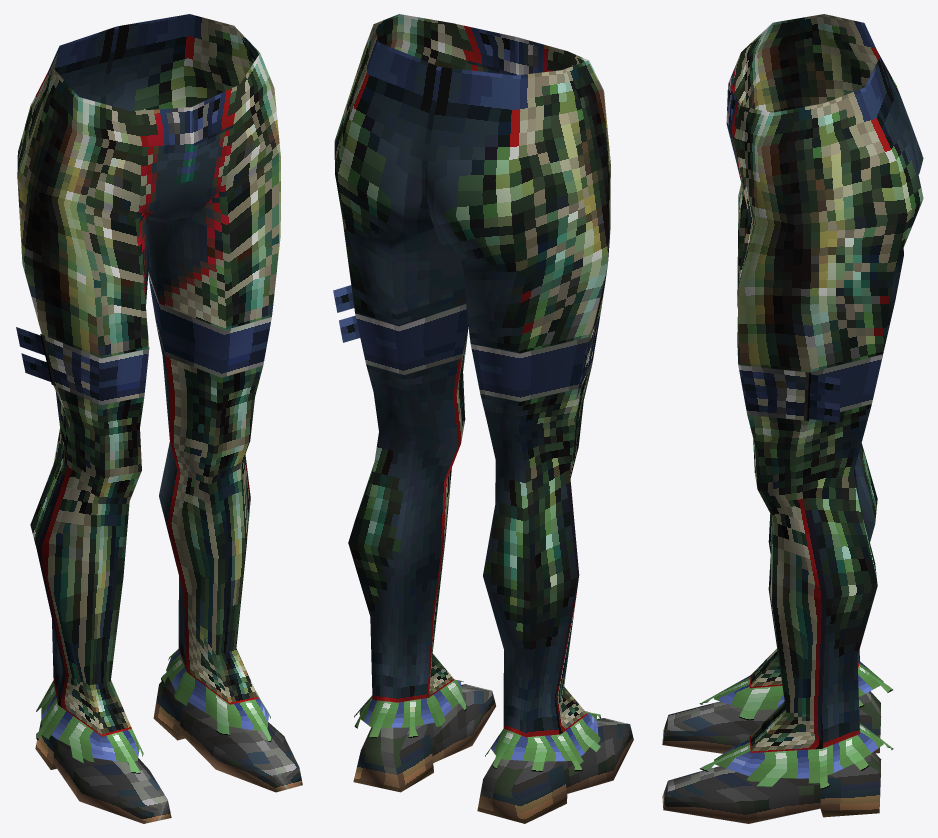
The model's file is f_reg061.glb.
3 views of the same model, side by side, from view 1: azimuth 30°, elevation 25°; view 2: azimuth 150°, elevation 25°; view 3: azimuth 270°, elevation 25° (orthographic). The views are drawn at different scales.
Bounding box in the file's own units: 41.81 × 110 × 36.31.
1 material, 1 textured.
